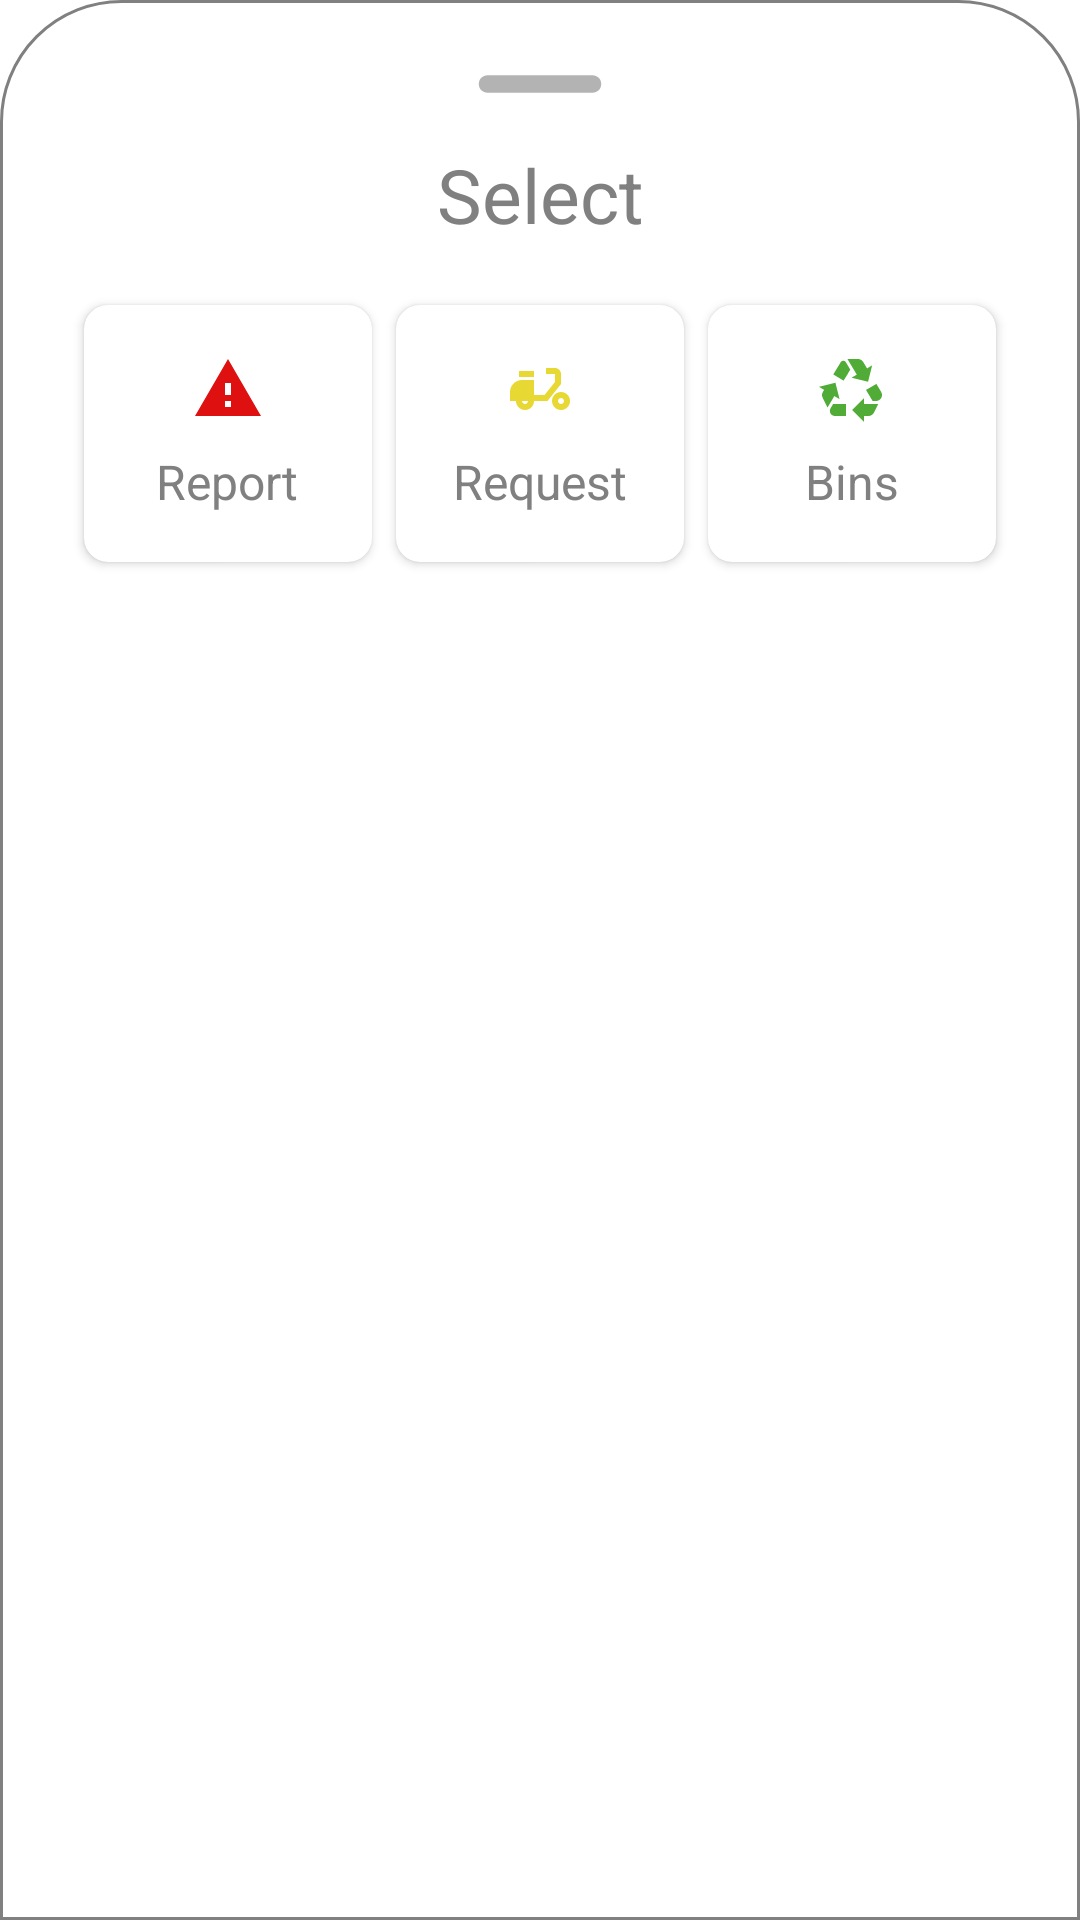

Icons on this 1080w x 1920h Android screen, each with the point to tap as [x,y]:
delivery dining: [540,389]
recycling: [850,390]
